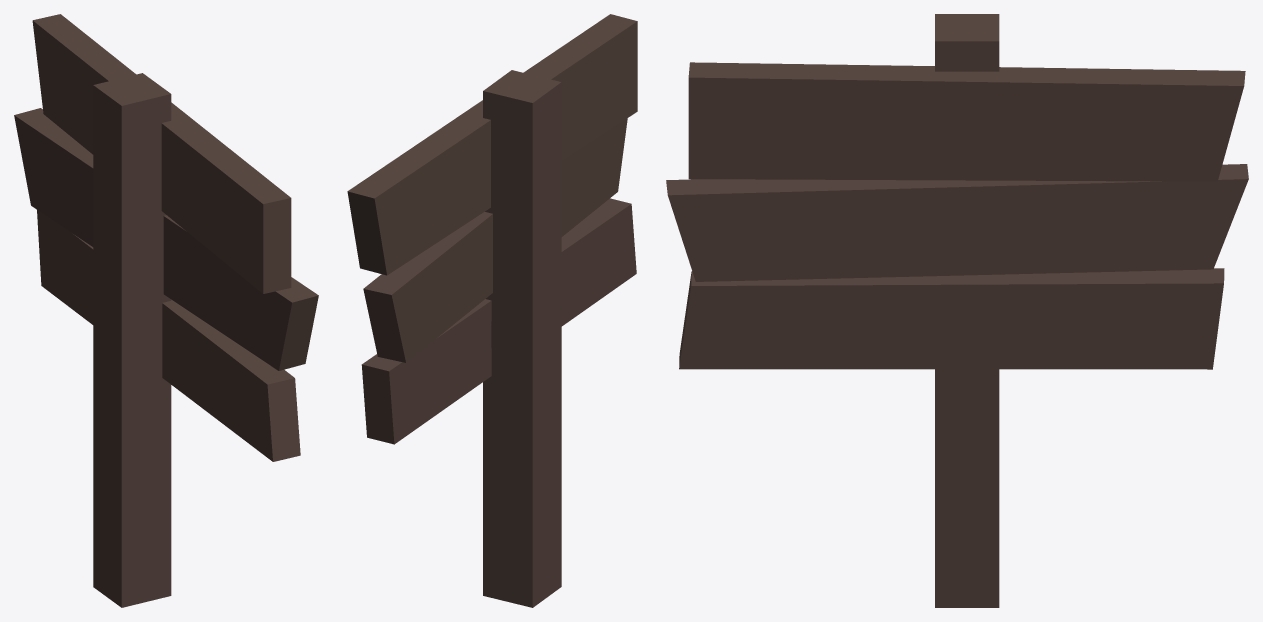
Rendered from sign.fbx.
3 renders of one model, left to right at view 1: azimuth 30°, elevation 25°; view 2: azimuth 150°, elevation 25°; view 3: azimuth 270°, elevation 25°, orthographic. The views are drawn at different scales.
Parts seen in each view (by area): view 1: Sign; view 2: Sign; view 3: Sign.
Part boxes in pixels (x1,y1,x2,y2): Sign: [14, 14, 318, 607]; Sign: [347, 14, 637, 607]; Sign: [666, 14, 1248, 607].
Bounding box in the file's own units: 39.37 × 240 × 223.
